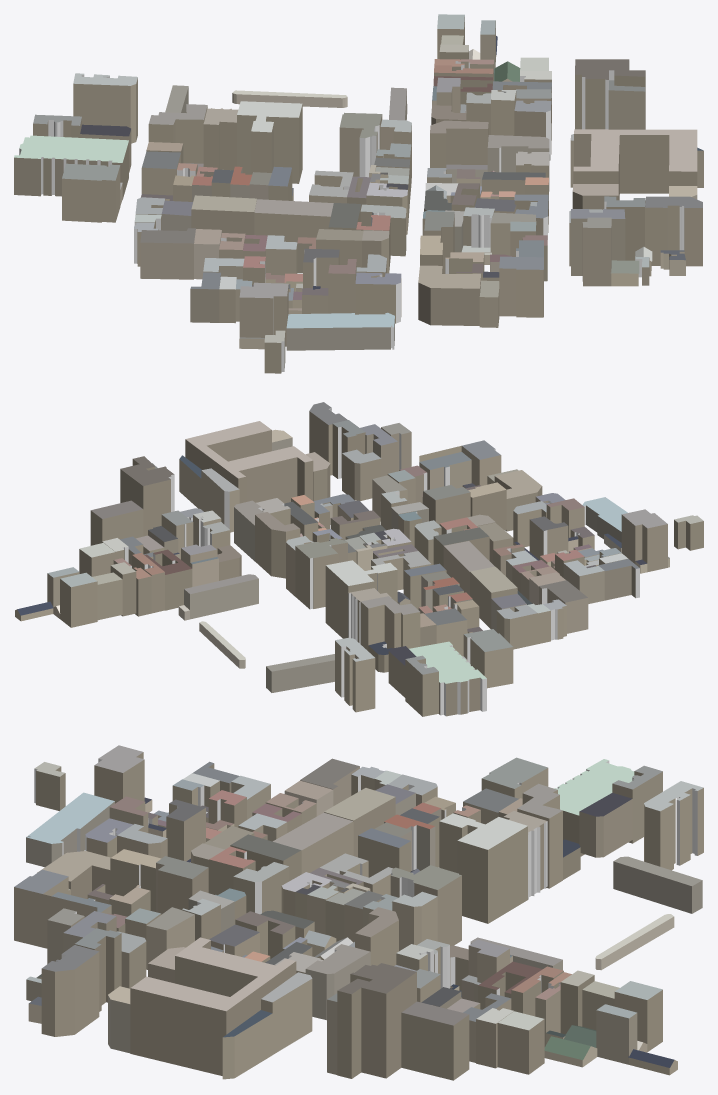
3 views of the same model, one above another, from view 1: azimuth 30°, elevation 25°; view 2: azimuth 150°, elevation 25°; view 3: azimuth 270°, elevation 25° (orthographic). The views are drawn at different scales.
Visible parts, largest first — view 1: tuile; view 2: tuile; view 3: tuile.
Part boxes in pixels (x1,y1,x2,y2): tuile: (14, 14, 703, 373); tuile: (15, 402, 703, 716); tuile: (14, 745, 703, 1080).
Size of the model in its own units: 266 by 39.2 by 272.
